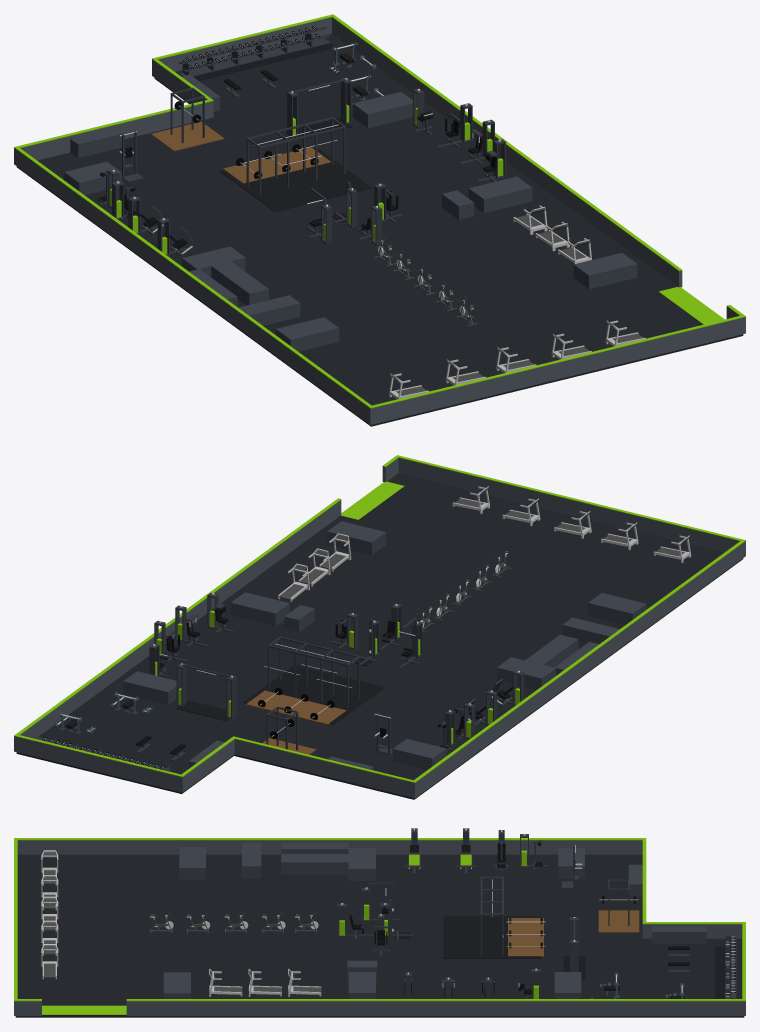
The model's file is gym.glb.
3 renders of one model, top to bottom at view 1: azimuth 30°, elevation 25°; view 2: azimuth 150°, elevation 25°; view 3: azimuth 270°, elevation 25°, orthographic. The views are drawn at different scales.
Visible parts, largest first — view 1: floor, walls, tables, rig, dbs, rack, cable, entrance, pecdeck, legpress2, shoulder, legpress1 (+2 smaller); view 2: floor, walls, tables, rig, cable, rack, entrance, shoulder, latpd, legpress2, pecfly, pecdeck (+4 smaller); view 3: floor, walls, tables, rig, rack, dbs, entrance, cable, legext, legpress1, latpd, tm8 (+13 smaller).
Boxes of the visible parts, x1,y1,x2,y2 form: floor: (16, 34, 743, 426); walls: (14, 14, 745, 424); tables: (64, 74, 637, 351); rig: (220, 117, 371, 211); dbs: (179, 26, 335, 80); rack: (151, 87, 224, 151); cable: (286, 77, 351, 139); entrance: (658, 287, 724, 324); pecdeck: (437, 103, 472, 147); legpress2: (157, 217, 194, 256); shoulder: (459, 119, 494, 164); legpress1: (128, 196, 163, 235); floor: (16, 473, 743, 799); walls: (14, 455, 745, 798); tables: (123, 521, 646, 770); rig: (243, 636, 384, 724); cable: (176, 663, 236, 720); rack: (262, 706, 316, 754); entrance: (341, 481, 404, 519); shoulder: (175, 605, 208, 647); latpd: (399, 617, 422, 668); legpress2: (491, 670, 524, 706); pecfly: (331, 613, 358, 649); pecdeck: (154, 621, 187, 662); floor: (15, 854, 744, 1017); walls: (14, 838, 745, 1015); tables: (163, 842, 706, 998); rig: (443, 876, 545, 958); rack: (598, 879, 639, 932); dbs: (715, 934, 736, 998); entrance: (42, 1005, 126, 1014); cable: (563, 917, 585, 979); legext: (337, 903, 372, 940); legpress1: (455, 828, 476, 873); latpd: (362, 882, 399, 921); tm8: (41, 944, 58, 979).
Size of the model in its own units: 21.44 by 2.76 by 40.8.
